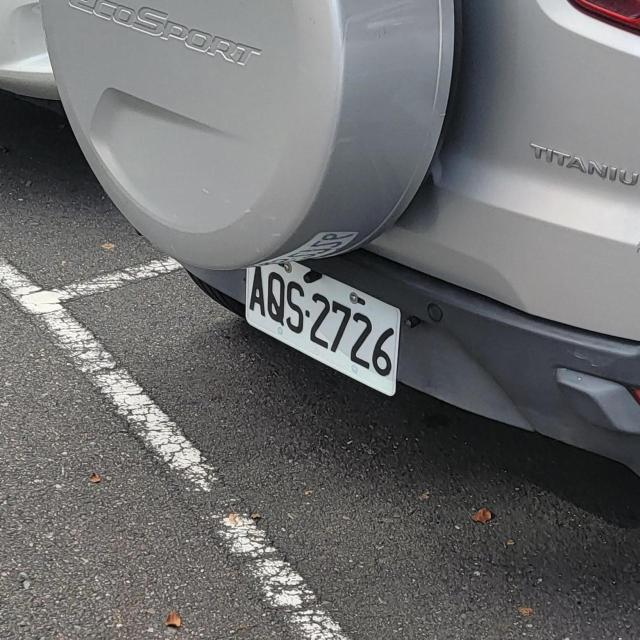W: (239, 249, 409, 397)
